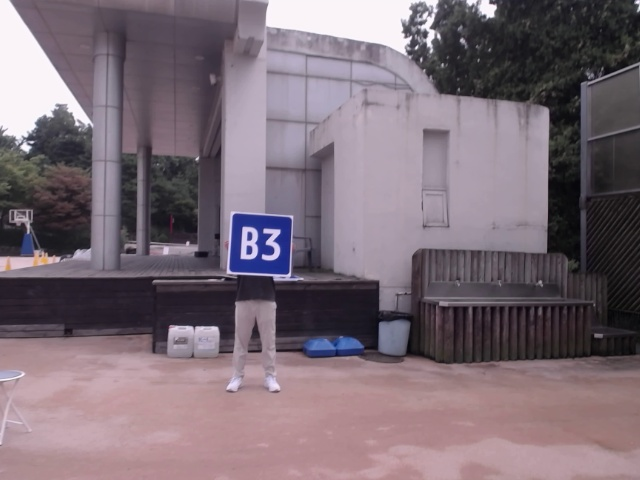delivery_b3: (228, 213, 293, 278)
